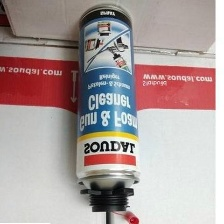aerosol_cans: (71, 0, 143, 222)
